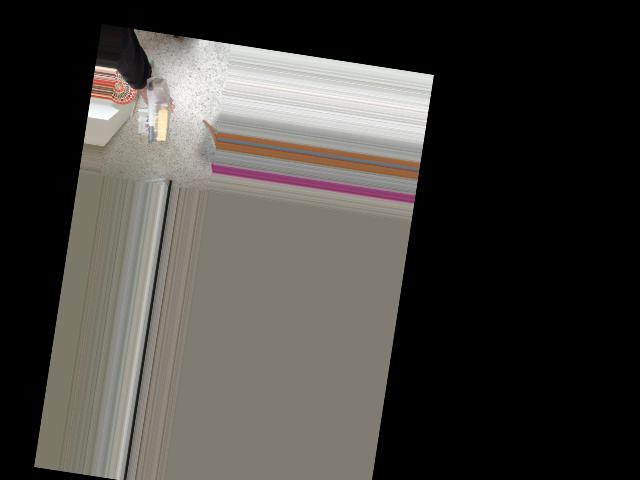cheese: (138, 77, 177, 144)
